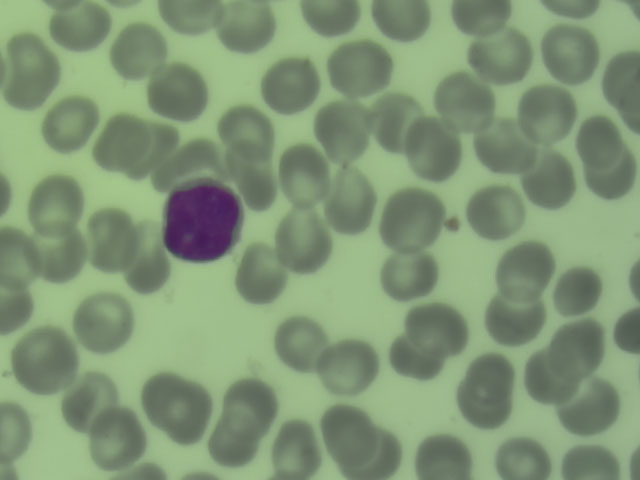RBC: (1, 28, 55, 108), (121, 222, 170, 299), (467, 183, 527, 241), (333, 40, 393, 98), (260, 58, 320, 116), (215, 104, 275, 162), (150, 120, 210, 178), (94, 112, 154, 170), (320, 339, 380, 397), (274, 313, 334, 371), (203, 411, 263, 469), (222, 374, 282, 432), (147, 377, 207, 435), (84, 410, 144, 468), (58, 372, 118, 430), (73, 292, 133, 350), (79, 212, 139, 270), (25, 174, 85, 232), (26, 223, 86, 281), (14, 335, 74, 393), (38, 97, 98, 155), (146, 60, 206, 118), (103, 18, 163, 76), (471, 26, 531, 84), (435, 76, 495, 134), (401, 122, 461, 180), (367, 93, 427, 151), (233, 247, 293, 305), (321, 173, 381, 231), (274, 210, 334, 268), (382, 188, 442, 246), (547, 315, 607, 373), (560, 379, 620, 437), (458, 361, 518, 419), (519, 86, 579, 144), (542, 24, 602, 82), (498, 242, 558, 300), (380, 246, 440, 304), (547, 259, 607, 317), (487, 293, 547, 351), (576, 120, 628, 186), (264, 422, 324, 479), (216, 1, 276, 58), (50, 1, 110, 58), (312, 102, 373, 158), (227, 150, 278, 214), (525, 351, 580, 406), (1, 391, 39, 468), (367, 1, 438, 40), (605, 48, 640, 121), (344, 438, 403, 480), (1, 226, 39, 291), (414, 303, 465, 351), (412, 435, 466, 480), (452, 1, 519, 37), (281, 144, 325, 198), (323, 406, 373, 453), (491, 437, 545, 479), (608, 290, 640, 360), (154, 1, 222, 32), (557, 444, 617, 479), (1, 273, 32, 340), (299, 1, 362, 32), (394, 337, 438, 380)
WBC: (159, 180, 243, 265)
